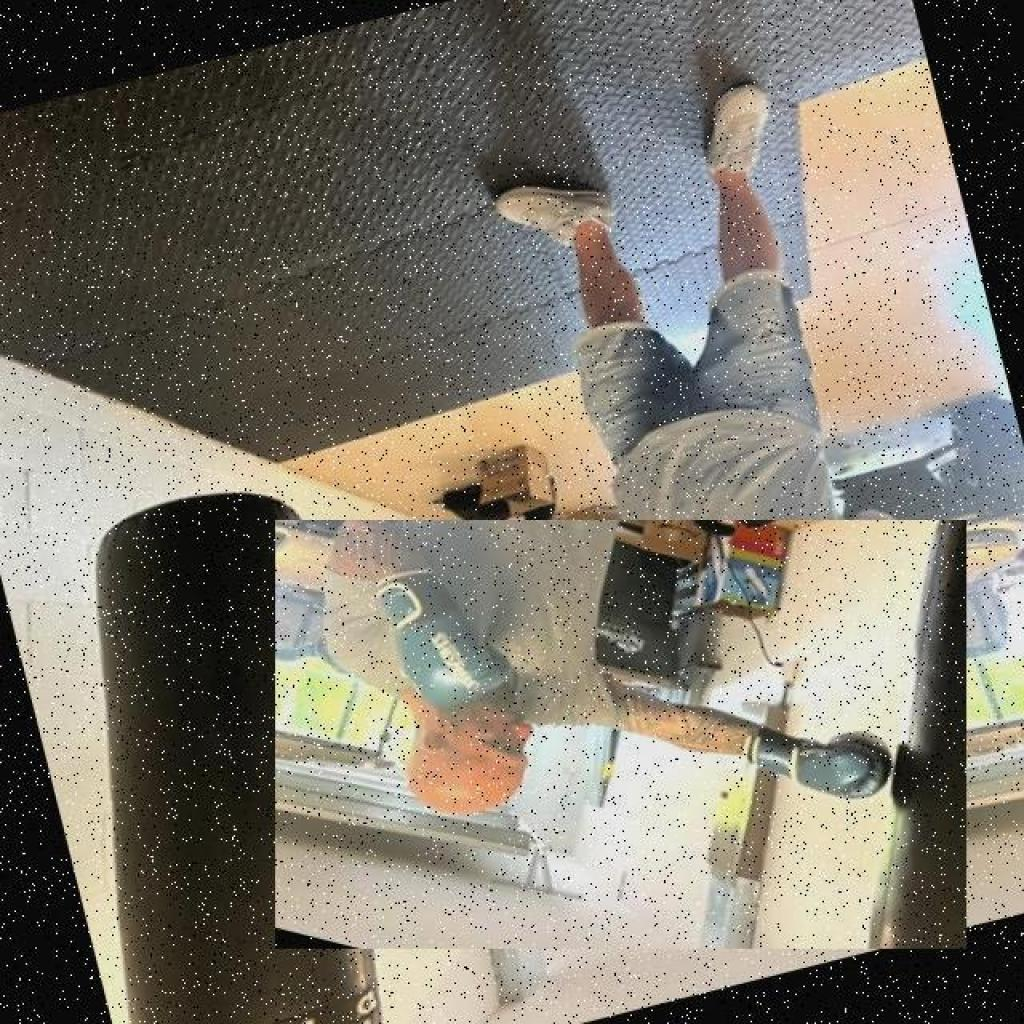jab: (275, 520, 967, 949)
